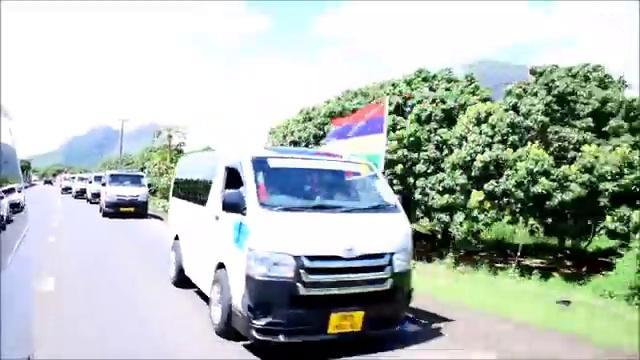van: (161, 151, 420, 348)
